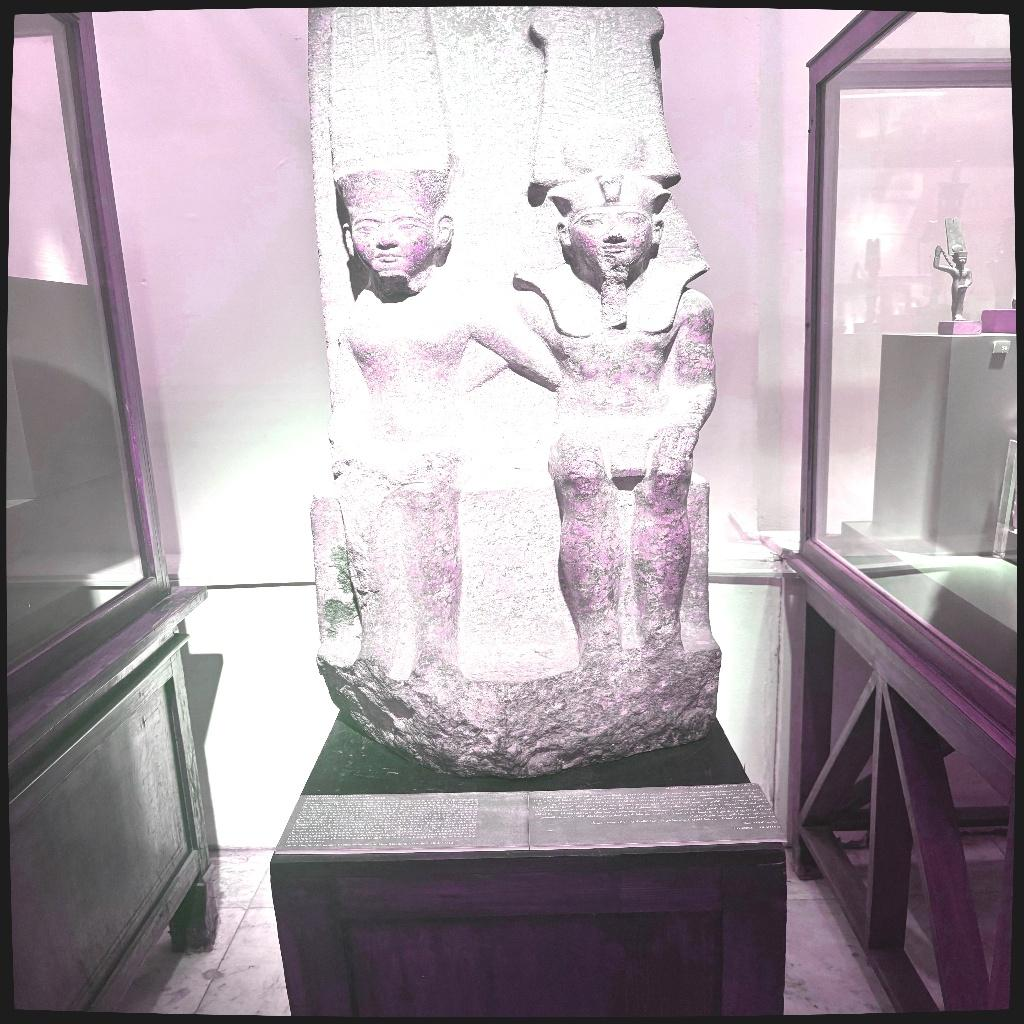Statue of Amun and King: (299, 81, 726, 791)
